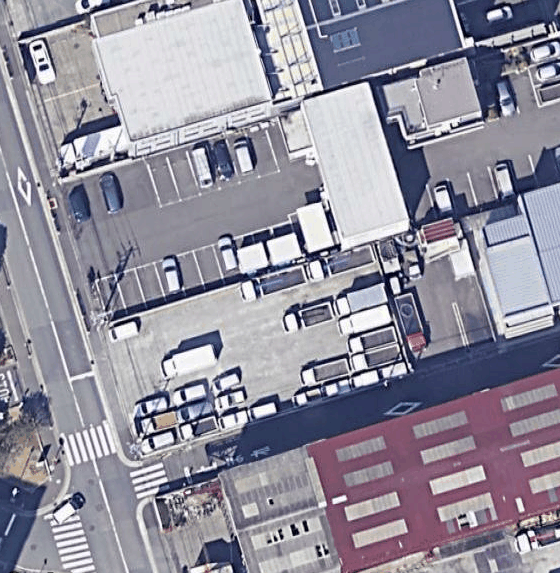flatroof: (80, 0, 253, 144), (297, 80, 415, 251)
parkinglot: (46, 113, 322, 325)
